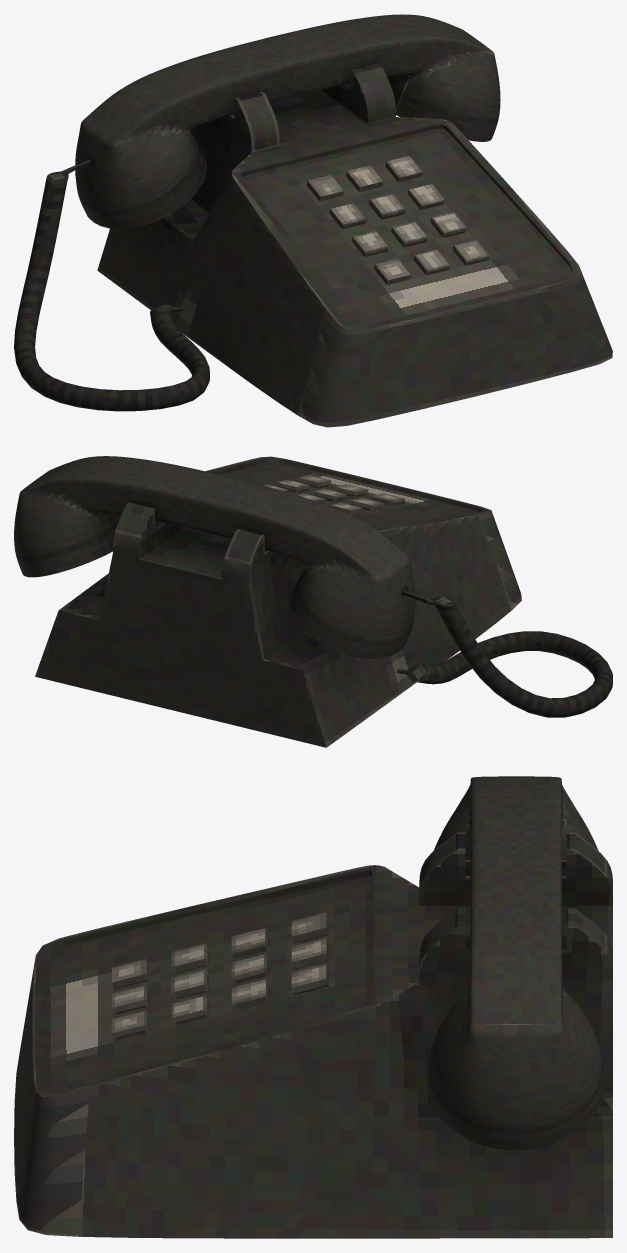
File: old_telephone_psx.glb
The picture shows the model from 3 angles, top to bottom: view 1: azimuth 30°, elevation 25°; view 2: azimuth 150°, elevation 25°; view 3: azimuth 270°, elevation 25°; orthographic projection. The views are drawn at different scales.
Parts seen in each view (by area): view 1: 10126_Traditional_corded_phone_v1_max2009_SG_iterations-2.ob; view 2: 10126_Traditional_corded_phone_v1_max2009_SG_iterations-2.ob; view 3: 10126_Traditional_corded_phone_v1_max2009_SG_iterations-2.ob.
Boxes of the visible parts, left/top/right/bottom form: 10126_Traditional_corded_phone_v1_max2009_SG_iterations-2.ob: left=14, top=14, right=612, bottom=427; 10126_Traditional_corded_phone_v1_max2009_SG_iterations-2.ob: left=14, top=456, right=612, bottom=747; 10126_Traditional_corded_phone_v1_max2009_SG_iterations-2.ob: left=14, top=776, right=612, bottom=1238.
Size of the model in its own units: 34.53 by 13.06 by 24.98.
1 material, 1 textured.
